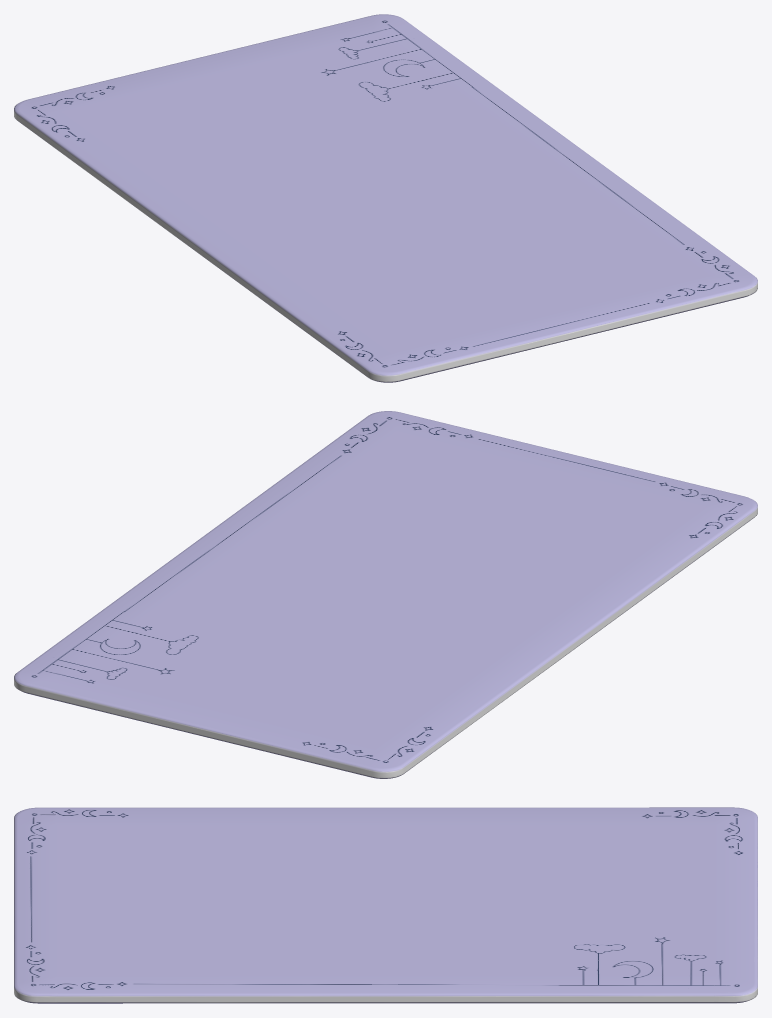
Rendered from desk_mat_02.obj.
3 renders of one model, top to bottom at view 1: azimuth 30°, elevation 25°; view 2: azimuth 150°, elevation 25°; view 3: azimuth 270°, elevation 25°, orthographic.
Parts seen in each view (by area): view 1: desk_mat.001; view 2: desk_mat.001; view 3: desk_mat.001.
Part boxes in pixels (x1=…): desk_mat.001: x1=14, y1=14, x2=757, y2=382; desk_mat.001: x1=14, y1=411, x2=757, y2=778; desk_mat.001: x1=14, y1=807, x2=757, y2=1003.
Size of the model in its own units: 5.59 by 0.1391 by 9.34.
